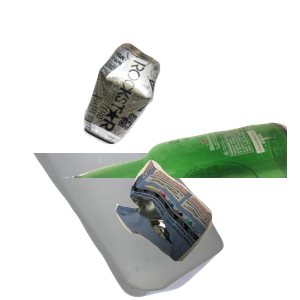glass: (60, 120, 300, 300)
metal: (81, 41, 234, 178)
plastic: (29, 153, 245, 300)
trash: (113, 157, 300, 300)
